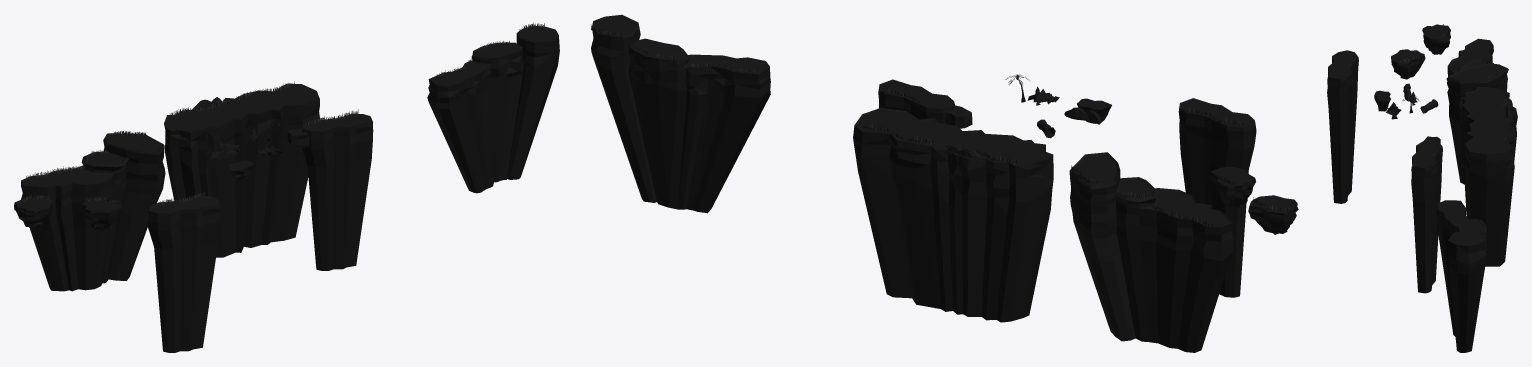
Rendered from cenario_gamejam.fbx.
The picture shows the model from 3 angles, left to right: view 1: azimuth 30°, elevation 25°; view 2: azimuth 150°, elevation 25°; view 3: azimuth 270°, elevation 25°; orthographic projection. The views are drawn at different scales.
Parts seen in each view (by area): view 1: ilha_corredor.001, ilha_com_andar.002, Plane.018, ilha_pequena.002, ilha_pequena.003, plataforma.002, plataforma.003; view 2: ilha_corredor.001, Plane.018, ilha_com_andar.002, ilha_pequena.002, ilha_pequena.003, plataforma.003, plataforma.002; view 3: ilha_corredor.001, Plane.018, ilha_pequena.002, ilha_pequena.003, ilha_com_andar.002, plataforma.002, plataforma.003, Plane.
Boxes of the visible parts, x1,y1,x2,y2 form: ilha_corredor.001: [164, 81, 319, 257]; ilha_com_andar.002: [21, 131, 165, 291]; Plane.018: [427, 22, 559, 193]; ilha_pequena.002: [148, 191, 219, 352]; ilha_pequena.003: [301, 109, 373, 270]; plataforma.002: [82, 196, 122, 230]; plataforma.003: [14, 194, 53, 228]; ilha_corredor.001: [853, 107, 1053, 322]; Plane.018: [591, 14, 770, 213]; ilha_com_andar.002: [1069, 152, 1233, 352]; ilha_pequena.002: [1178, 98, 1256, 297]; ilha_pequena.003: [878, 79, 954, 123]; plataforma.003: [1248, 195, 1298, 234]; plataforma.002: [1209, 166, 1255, 207]; ilha_corredor.001: [1461, 87, 1517, 266]; Plane.018: [1436, 200, 1487, 352]; ilha_pequena.002: [1327, 50, 1358, 203]; ilha_pequena.003: [1411, 139, 1442, 293]; ilha_com_andar.002: [1446, 38, 1508, 184]; plataforma.002: [1391, 49, 1425, 79]; plataforma.003: [1422, 24, 1450, 54]; Plane: [1374, 90, 1390, 111].
Bounding box in the file's own units: 17043 × 5022 × 5494.
